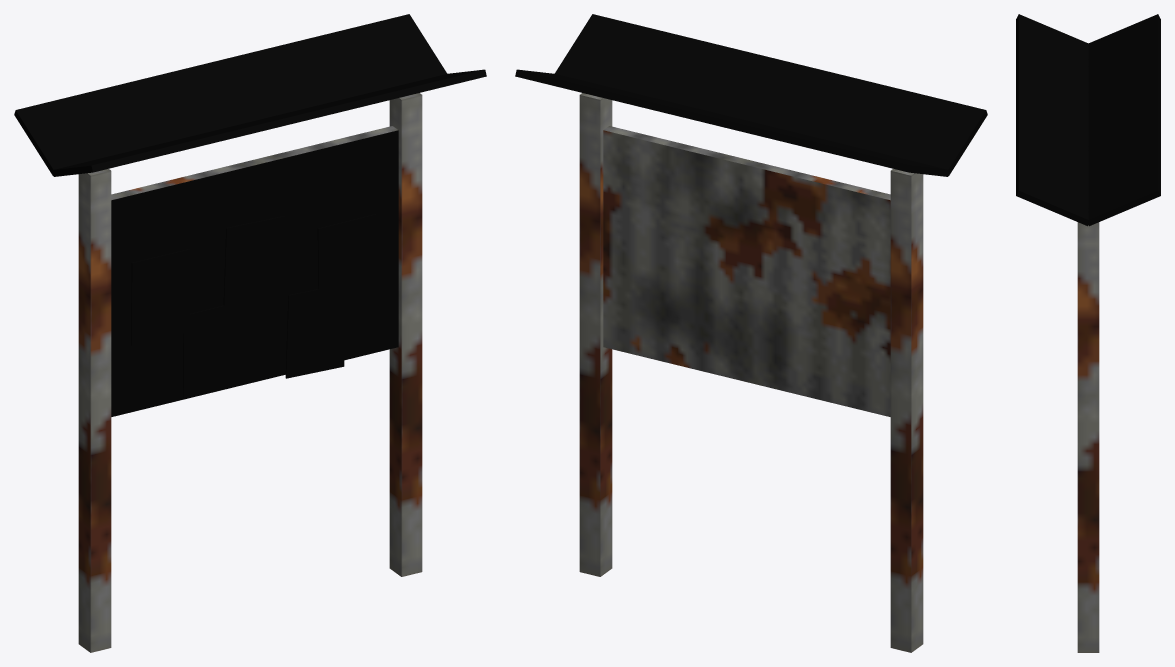
File: SM_notice_board.fbx
The picture shows the model from 3 angles, left to right: view 1: azimuth 30°, elevation 25°; view 2: azimuth 150°, elevation 25°; view 3: azimuth 270°, elevation 25°; orthographic projection. The views are drawn at different scales.
Parts seen in each view (by area): view 1: notice_board; view 2: notice_board; view 3: notice_board.
Part boxes in pixels (x1,y1,x2,y2): notice_board: (14,14,486,652); notice_board: (515,14,987,652); notice_board: (1016,14,1160,652).
Size of the model in its own units: 1.9 by 2.39 by 0.6589.
